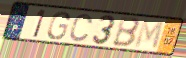1: (32, 8, 47, 39)
3: (91, 14, 117, 46)
B: (111, 17, 141, 49)
C: (68, 13, 94, 43)
G: (46, 10, 71, 41)
M: (133, 19, 166, 51)
